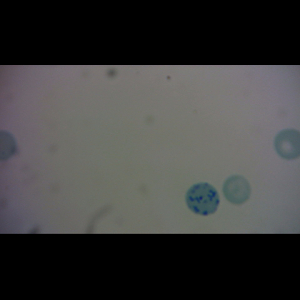aggregate reticulocyte: (184, 182, 220, 216)
erythrocyte: (222, 175, 250, 205)
